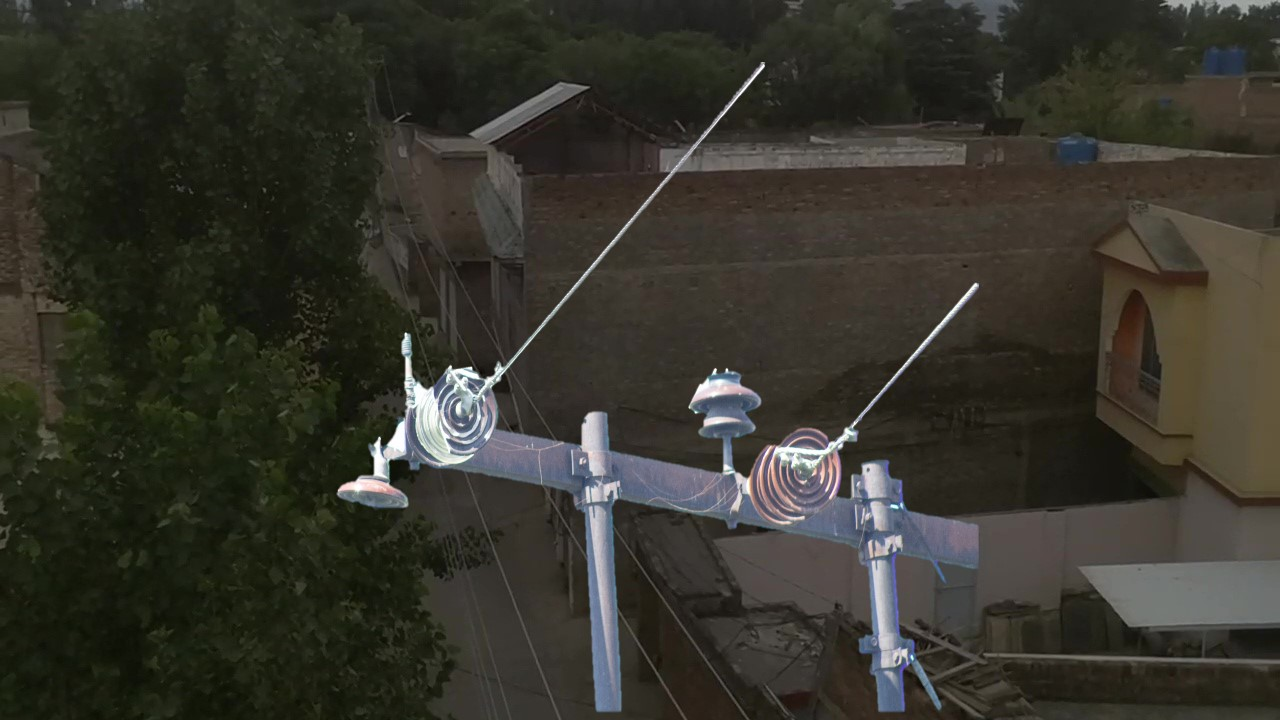defect_disc: (427, 365, 504, 455)
insulator_disc: (766, 419, 848, 512), (336, 450, 412, 521)
